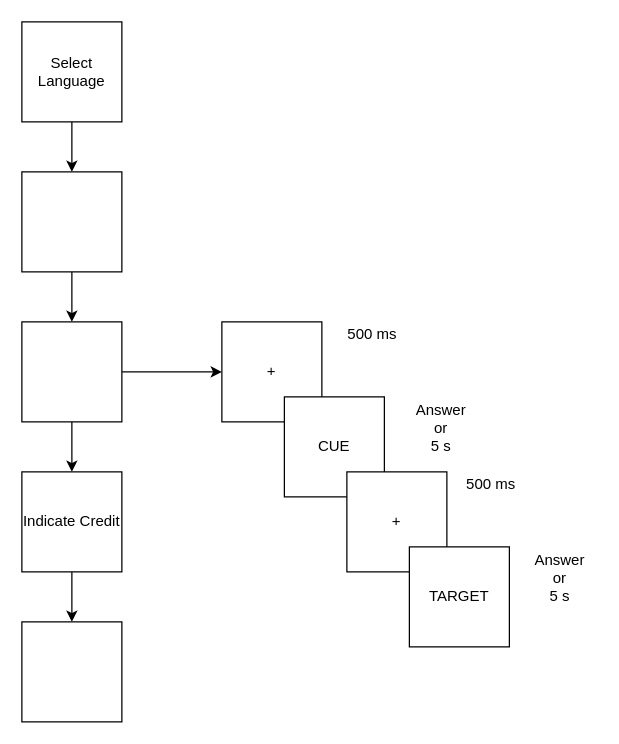
This 619x744 diagram has some shape labels left out. Here are the shapes that lost their labels. From the top down, the box of each, then its label:
(21, 171, 122, 272): Demographics
(21, 321, 122, 422): Lexical Decision Task
(21, 621, 122, 722): Subjective Measures
